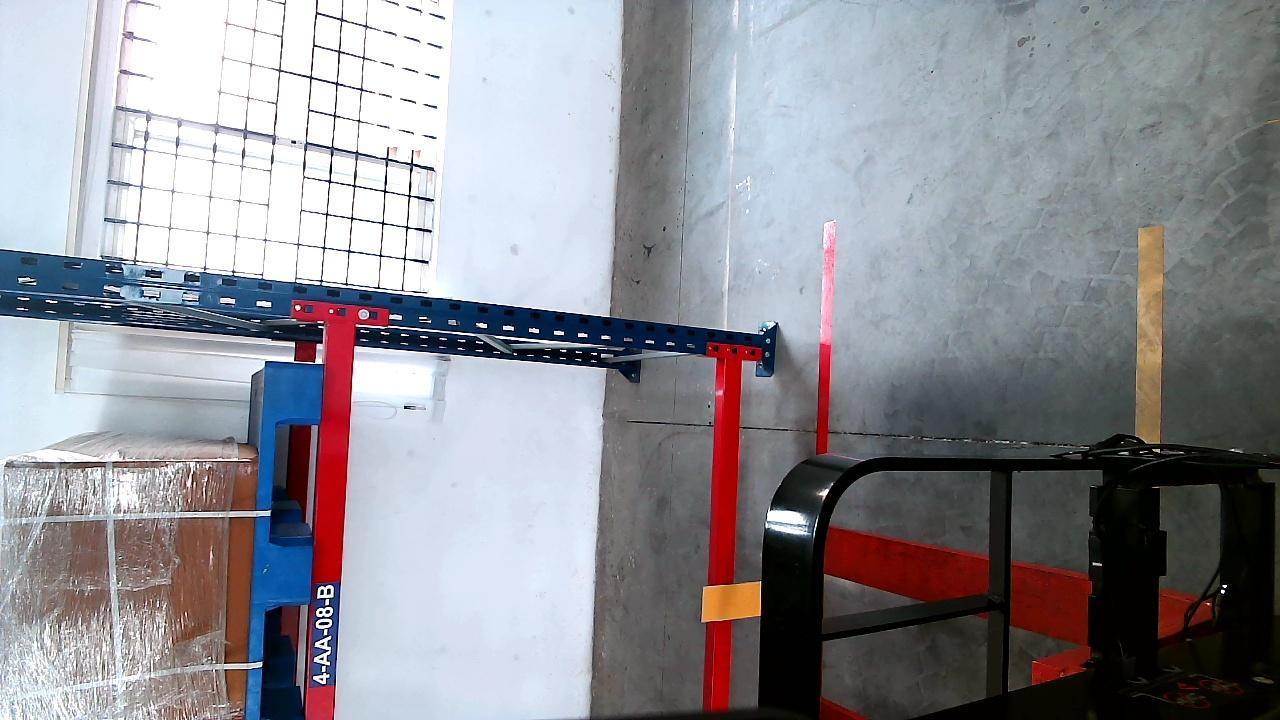red_line: (816, 222, 837, 455)
yellow_line: (1137, 220, 1163, 449)
